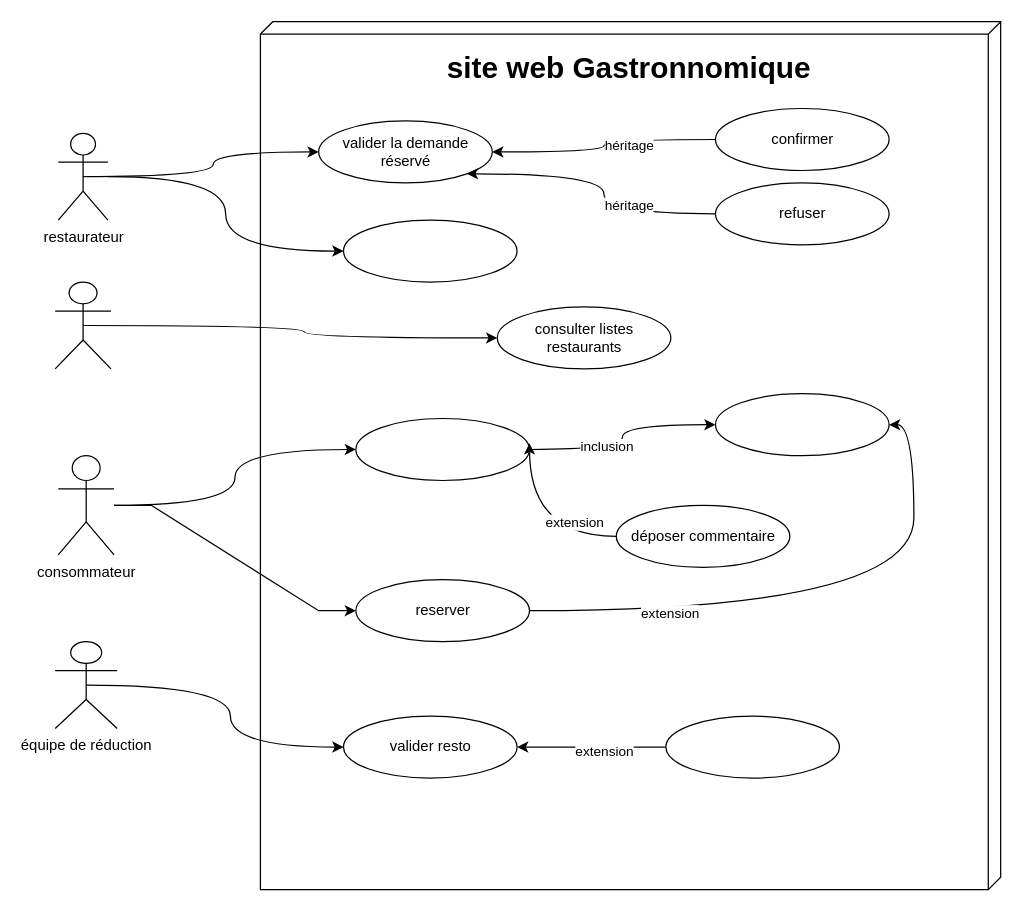
This 1023x911 diagram has some shape labels left out. Here are the shapes that lost their labels. From the top down, the box of each, then its label:
(342, 219, 517, 282): inscrire resto
(54, 281, 111, 369): Alternante
(714, 392, 889, 456): s identifier
(355, 417, 529, 480): évaluer resto
(665, 715, 839, 778): effectuer visite
